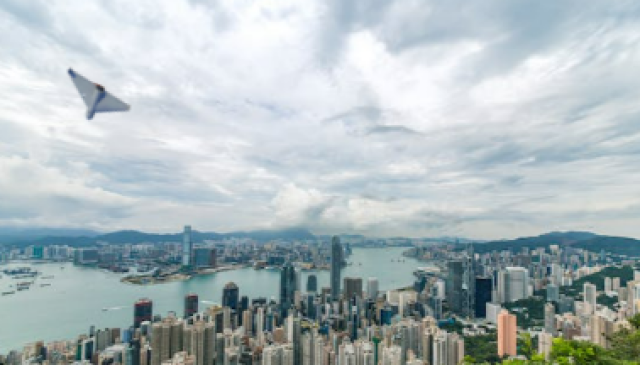military drone: (66, 67, 131, 120)
